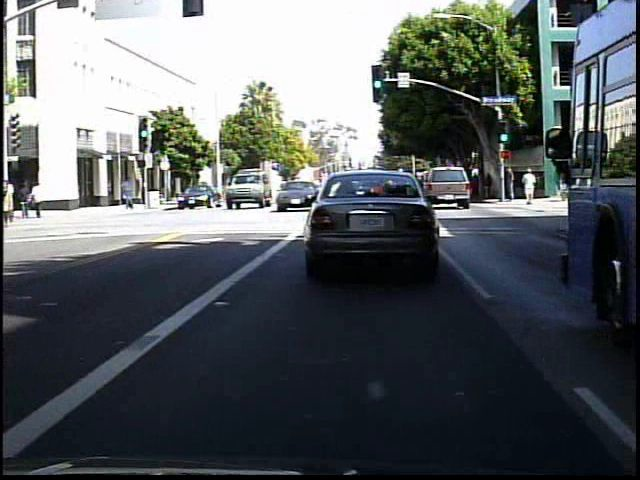person: (1, 178, 23, 231), (501, 163, 520, 207), (520, 165, 538, 207), (32, 180, 49, 220), (118, 175, 136, 212), (21, 183, 33, 219), (471, 172, 484, 202), (482, 169, 494, 201)
